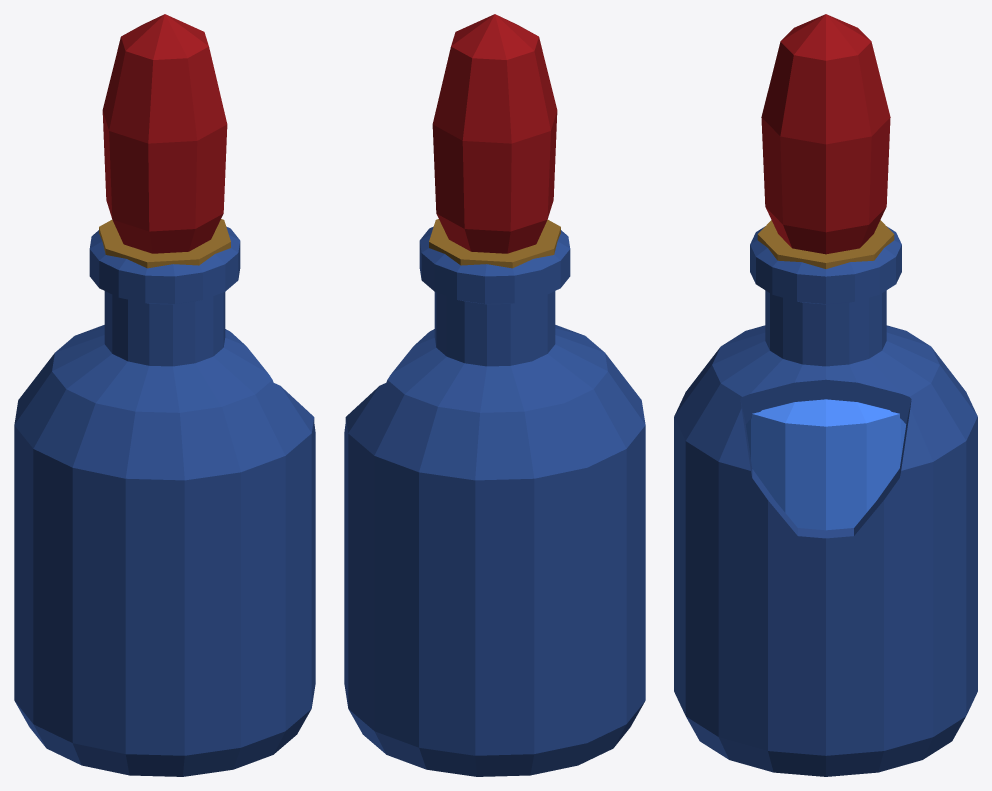
Rendered from ether_drop.obj.
The picture shows the model from 3 angles, left to right: view 1: azimuth 30°, elevation 25°; view 2: azimuth 150°, elevation 25°; view 3: azimuth 270°, elevation 25°; orthographic projection.
Parts seen in each view (by area): view 1: A_Flask.001_ether_drop_glass, S_Bulb.001_ether_drop_wax, S_Cap.001_ether_drop_brass; view 2: A_Flask.001_ether_drop_glass, S_Bulb.001_ether_drop_wax, S_Cap.001_ether_drop_brass; view 3: A_Flask.001_ether_drop_glass, S_Bulb.001_ether_drop_wax, A_Liquid.001_ether_drop_liquid, S_Cap.001_ether_drop_brass.
Boxes of the visible parts, box(x1,y1,x2,y2) form: A_Flask.001_ether_drop_glass: box(14, 226, 315, 776); S_Bulb.001_ether_drop_wax: box(102, 14, 227, 253); S_Cap.001_ether_drop_brass: box(99, 219, 230, 268); A_Flask.001_ether_drop_glass: box(344, 226, 645, 776); S_Bulb.001_ether_drop_wax: box(432, 14, 557, 253); S_Cap.001_ether_drop_brass: box(429, 219, 560, 268); A_Flask.001_ether_drop_glass: box(674, 226, 977, 776); S_Bulb.001_ether_drop_wax: box(761, 14, 890, 254); A_Liquid.001_ether_drop_liquid: box(745, 399, 906, 530); S_Cap.001_ether_drop_brass: box(757, 220, 894, 268).
Bounding box in the file's own units: 0.8 × 2.05 × 0.8.
